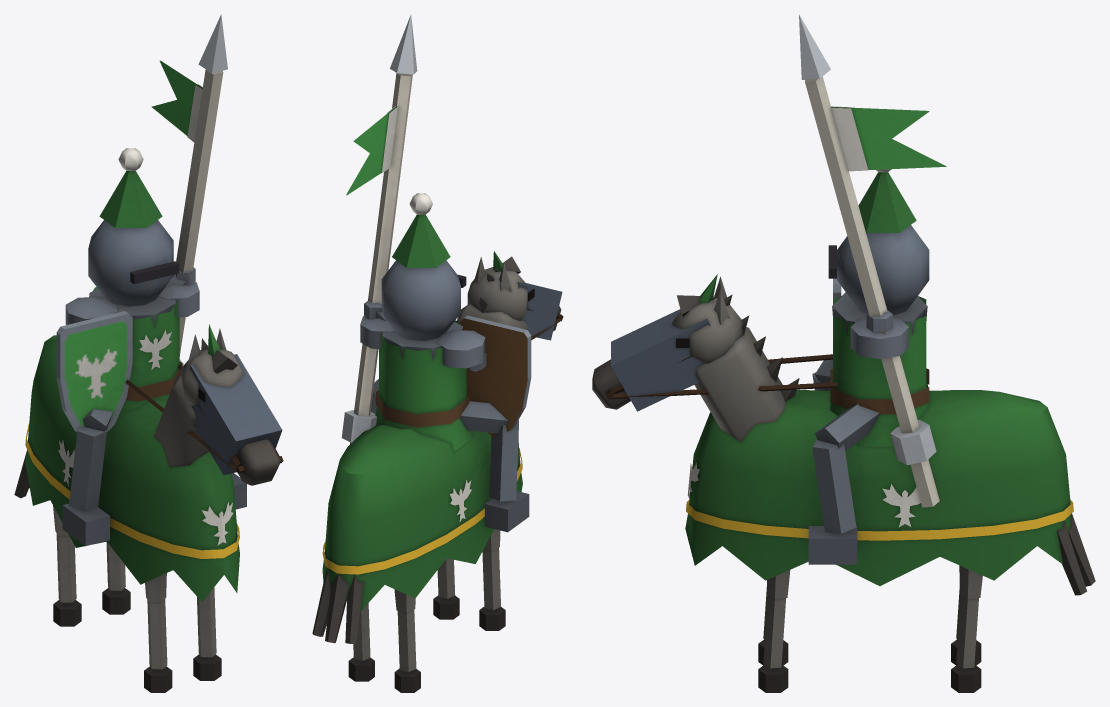
The model's file is assault_dl3_green.glb.
3 renders of one model, left to right at view 1: azimuth 30°, elevation 25°; view 2: azimuth 150°, elevation 25°; view 3: azimuth 270°, elevation 25°, orthographic. The views are drawn at different scales.
Parts seen in each view (by area): view 1: assault_dl3_green; view 2: assault_dl3_green; view 3: assault_dl3_green.
Part boxes in pixels (x1,y1,x2,y2): assault_dl3_green: (14, 14, 283, 692); assault_dl3_green: (312, 15, 563, 692); assault_dl3_green: (592, 14, 1095, 692).
Bounding box in the file's own units: 0.2579 × 0.9039 × 0.6004.
1 material, 1 textured.
